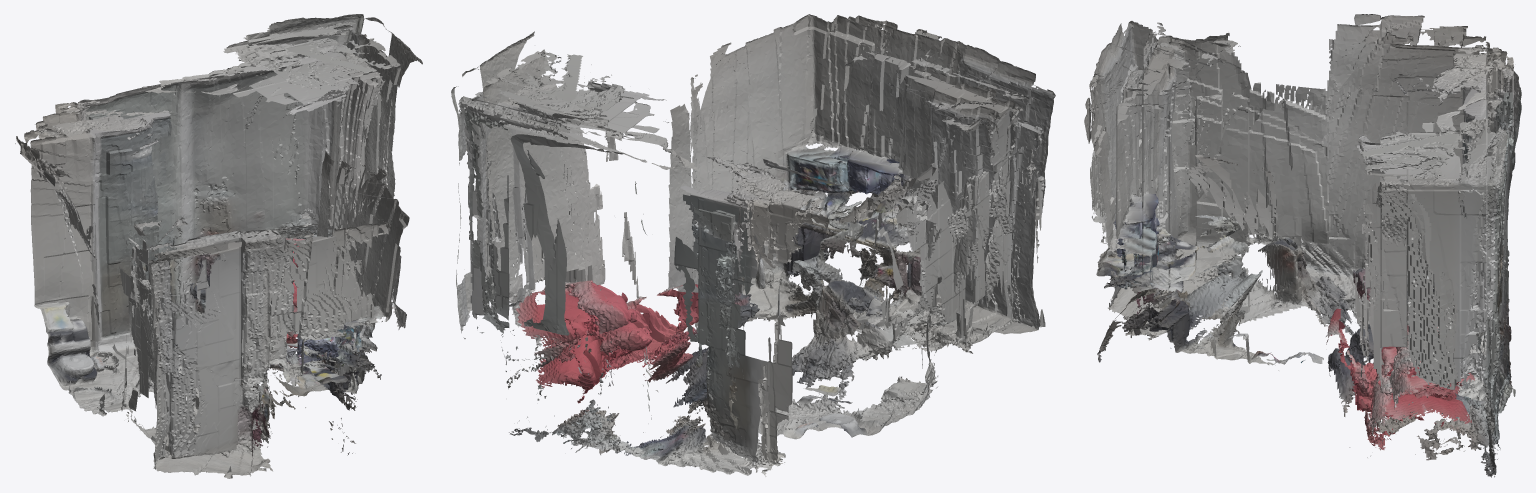
The picture shows the model from 3 angles, left to right: view 1: azimuth 30°, elevation 25°; view 2: azimuth 150°, elevation 25°; view 3: azimuth 270°, elevation 25°; orthographic projection. The views are drawn at different scales.
Parts seen in each view (by area): view 1: geometry_0; view 2: geometry_0; view 3: geometry_0.
Boxes of the visible parts, bbox=[...] form: geometry_0: bbox=[15, 14, 422, 478]; geometry_0: bbox=[451, 14, 1055, 476]; geometry_0: bbox=[1084, 14, 1521, 477].
Bounding box in the file's own units: 4.3 × 3.56 × 3.97.
